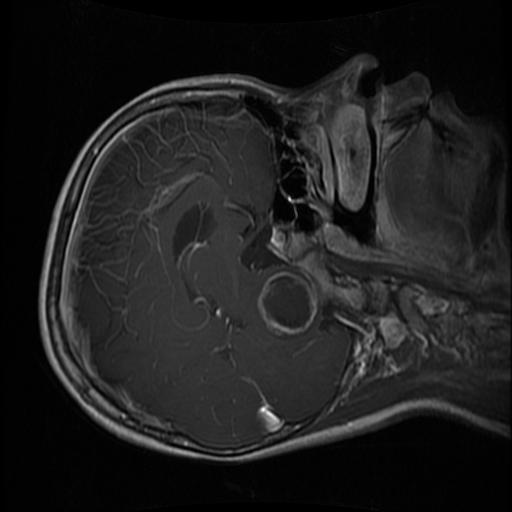glioma: (256, 270, 314, 335)
